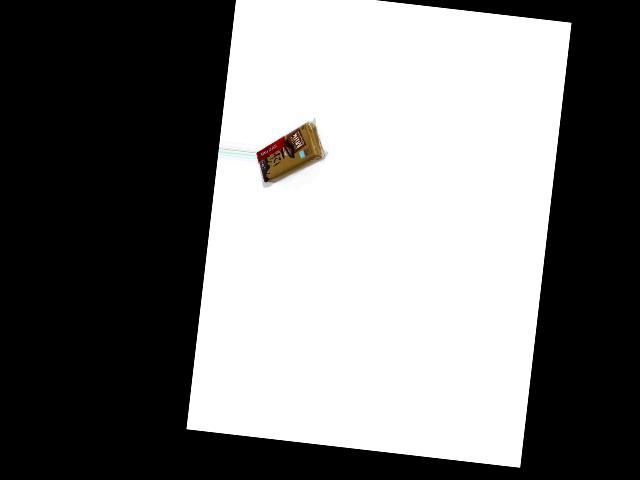chocolate: (254, 108, 329, 189)
